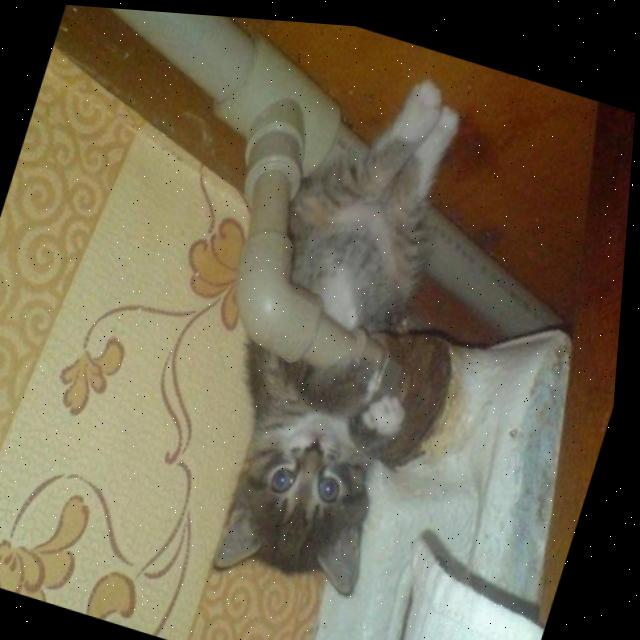Cats: (180, 48, 517, 618)
